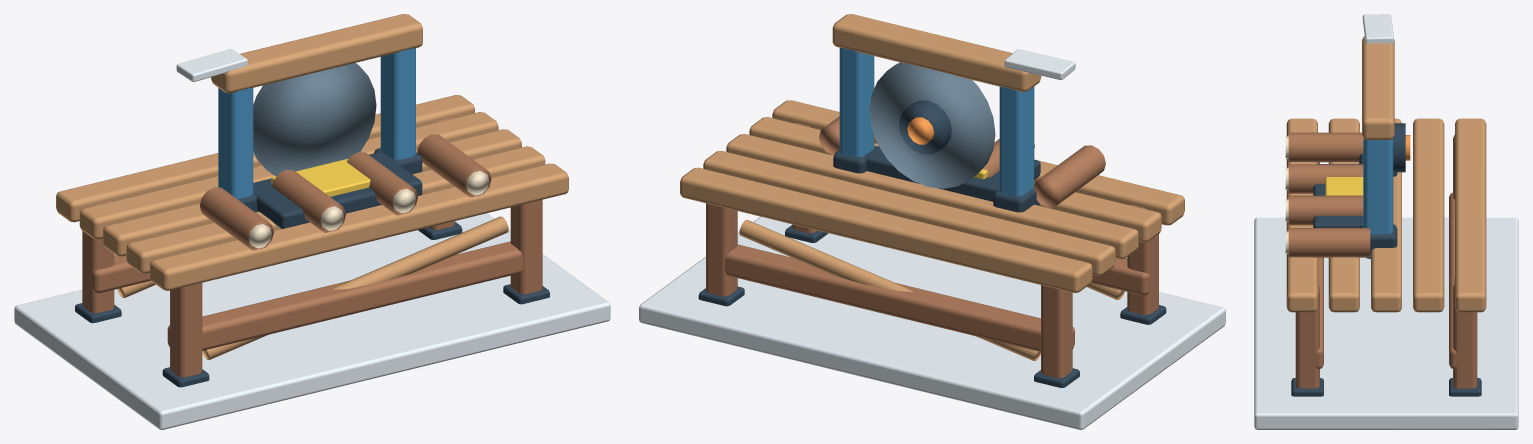
The model's file is processing_counter.glb.
3 renders of one model, left to right at view 1: azimuth 30°, elevation 25°; view 2: azimuth 150°, elevation 25°; view 3: azimuth 270°, elevation 25°, orthographic. The views are drawn at different scales.
Parts seen in each view (by area): view 1: processing_counter; view 2: processing_counter; view 3: processing_counter.
Part boxes in pixels (x1,y1,x2,y2): processing_counter: (14,14,610,429); processing_counter: (639,14,1225,429); processing_counter: (1254,14,1518,429).
Size of the model in its own units: 3.45 by 2.12 by 1.95.
